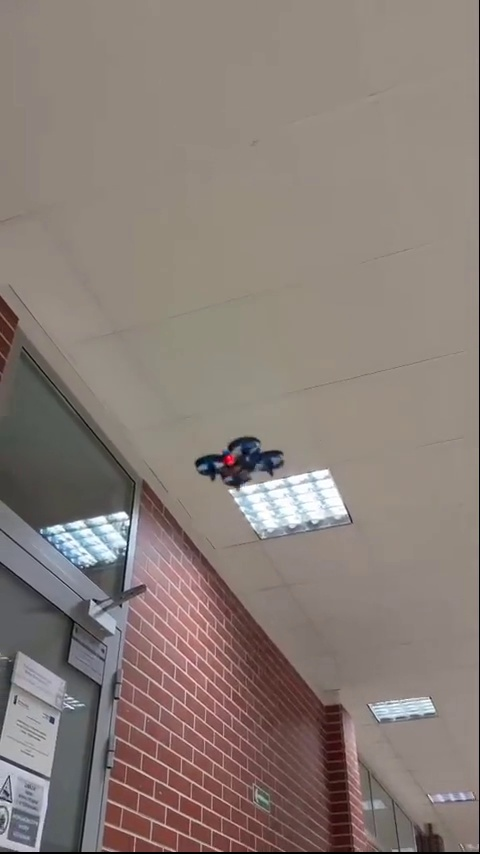drone: (198, 437, 282, 488)
